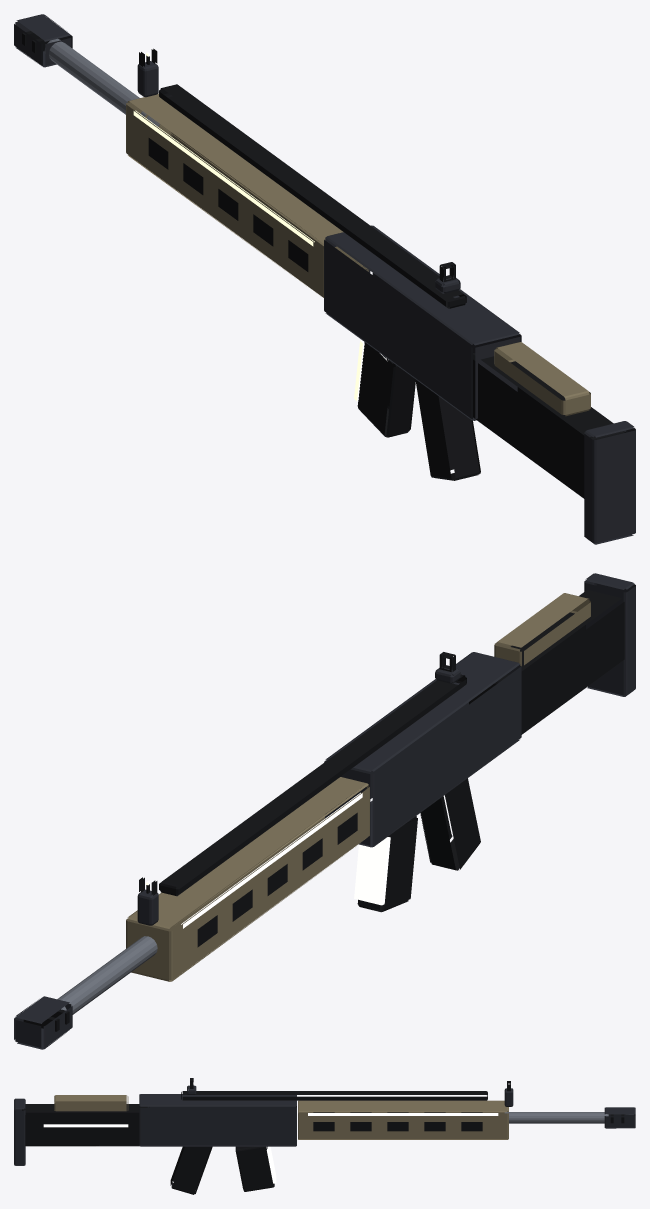
File: marksman_lod.glb
3 views of the same model, one above another, from view 1: azimuth 30°, elevation 25°; view 2: azimuth 150°, elevation 25°; view 3: azimuth 270°, elevation 25° (orthographic). The views are drawn at different scales.
Parts seen in each view (by area): view 1: Body, Magazine, IronSights; view 2: Body, Magazine, IronSights; view 3: Body, Magazine, IronSights.
Part boxes in pixels (x1,y1,x2,y2): Body: (14,14,635,544); Magazine: (354,340,415,437); IronSights: (137,48,460,293); Body: (14,573,635,1049); Magazine: (354,816,417,912); IronSights: (137,652,460,925); Body: (14,1091,635,1194); Magazine: (235,1146,276,1191); IronSights: (187,1078,513,1106).
Size of the model in its own units: 0.058 by 0.2341 by 1.18.
